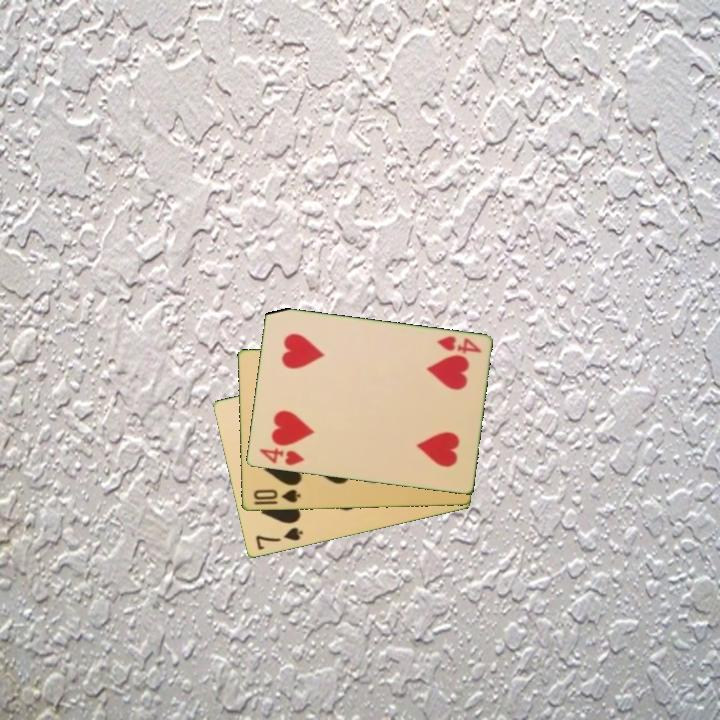10s: (250, 486, 303, 506)
4h: (255, 444, 306, 469), (433, 333, 484, 357)
7s: (252, 524, 306, 553)
